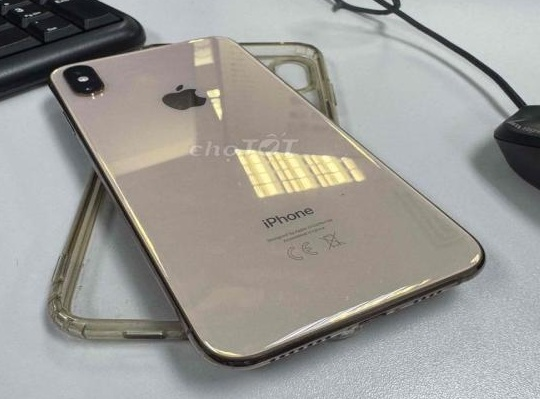scratch: (358, 257, 382, 277), (336, 288, 359, 307), (373, 276, 390, 287)
